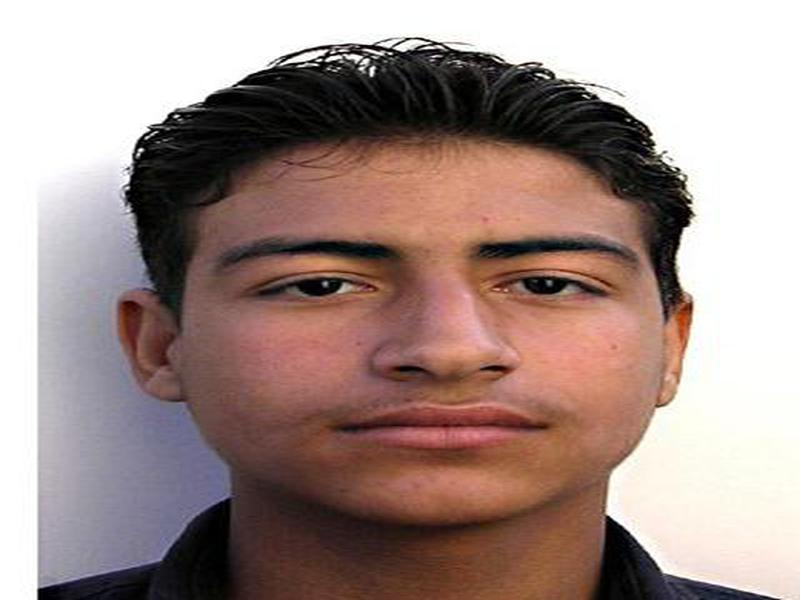without_mask: (183, 185, 660, 523)
